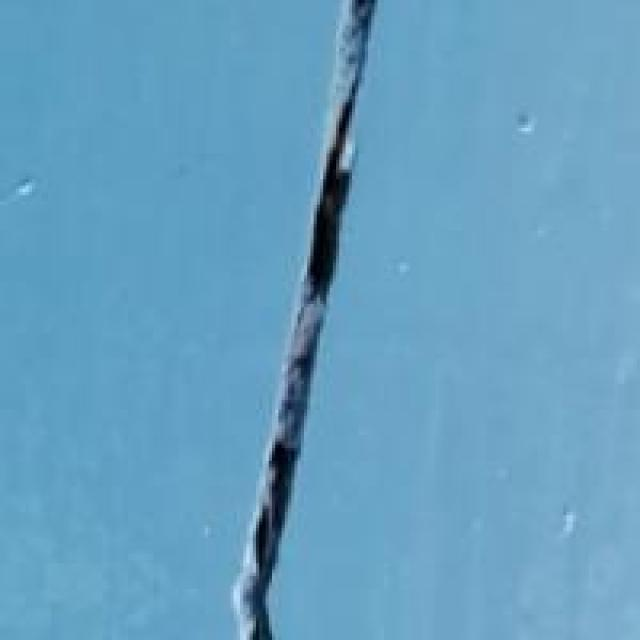crack: (233, 9, 412, 636)
